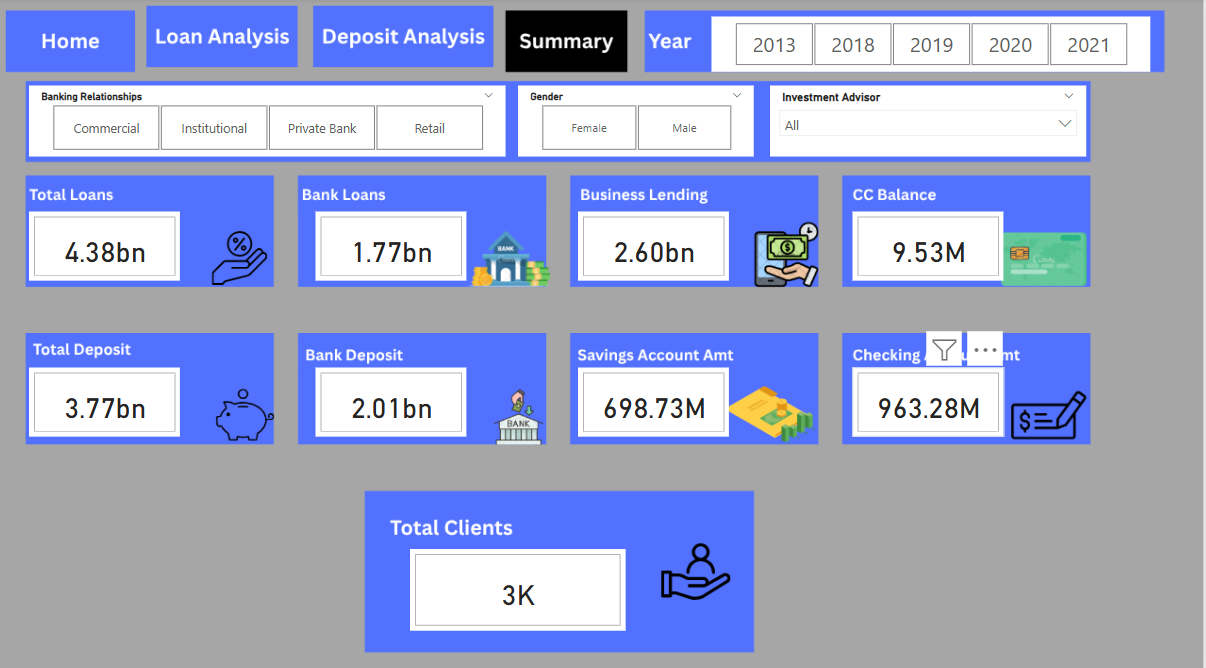

The dashboard page shown, as its layout file describes it:
{"tool":"powerbi","page":{"name":"Summary","canvas":[1280,720],"ordinal":3},"visuals":[{"type":"slicer","fields":{"Values":["public banking.Year_of_Joining"]},"box":[758.3,20,465,58.3],"z":0},{"type":"slicer","fields":{"Values":["public banking.iaid"]},"box":[820,93.3,335,75],"z":1000},{"type":"slicer","fields":{"Values":["public banking.genderid"]},"box":[553.3,93.3,250,75],"z":2000},{"type":"slicer","fields":{"Values":["public banking.brid"]},"box":[35,93.3,505,75],"z":3000},{"type":"cardVisual","fields":{"Data":["public banking.Total Deposit"]},"box":[35,393.3,160,73.3],"z":4000},{"type":"cardVisual","fields":{"Data":["Sum(public banking.bank_deposits)"]},"box":[338.3,393.3,160,73.3],"z":5000},{"type":"cardVisual","fields":{"Data":["Sum(public banking.saving_accounts)"]},"box":[616.7,393.3,160,73.3],"z":6000},{"type":"cardVisual","fields":{"Data":["Sum(public banking.checking_accounts)"]},"box":[908.3,393.3,160,73.3],"z":7000},{"type":"cardVisual","fields":{"Data":["CountNonNull(public banking.name)"]},"box":[438.3,585,228.3,86.7],"z":8000},{"type":"cardVisual","fields":{"Data":["public banking.Total Loan"]},"box":[35,226.7,160,73.3],"z":9000},{"type":"cardVisual","fields":{"Data":["Sum(public banking.bank_loans)"]},"box":[338.3,226.7,160,73.3],"z":10000},{"type":"cardVisual","fields":{"Data":["Sum(public banking.business_lending)"]},"box":[616.7,226.7,160,73.3],"z":11000},{"type":"cardVisual","fields":{"Data":["Sum(public banking.credit_card_balance)"]},"box":[908.3,226.7,160,73.3],"z":12000},{"type":"actionButton","box":[160,11.7,153.3,66.7],"z":13000},{"type":"actionButton","box":[18.3,11.7,121.7,66.7],"z":14000},{"type":"actionButton","box":[340,11.7,181.7,55],"z":15000}]}

Visuals, with their boxes in screenshot pixels (x1, y1, x2, y2), scaled from the page's 1280x720 canvas onto the 1206x668 screenshot:
slicer - public banking.Year_of_Joining: l=714, t=19, r=1153, b=73
slicer - public banking.iaid: l=773, t=87, r=1088, b=156
slicer - public banking.genderid: l=521, t=87, r=757, b=156
slicer - public banking.brid: l=33, t=87, r=509, b=156
cardVisual - public banking.Total Deposit: l=33, t=365, r=184, b=433
cardVisual - Sum(public banking.bank_deposits): l=319, t=365, r=469, b=433
cardVisual - Sum(public banking.saving_accounts): l=581, t=365, r=732, b=433
cardVisual - Sum(public banking.checking_accounts): l=856, t=365, r=1007, b=433
cardVisual - CountNonNull(public banking.name): l=413, t=543, r=628, b=623
cardVisual - public banking.Total Loan: l=33, t=210, r=184, b=278
cardVisual - Sum(public banking.bank_loans): l=319, t=210, r=469, b=278
cardVisual - Sum(public banking.business_lending): l=581, t=210, r=732, b=278
cardVisual - Sum(public banking.credit_card_balance): l=856, t=210, r=1007, b=278
actionButton: l=151, t=11, r=295, b=73
actionButton: l=17, t=11, r=132, b=73
actionButton: l=320, t=11, r=492, b=62
